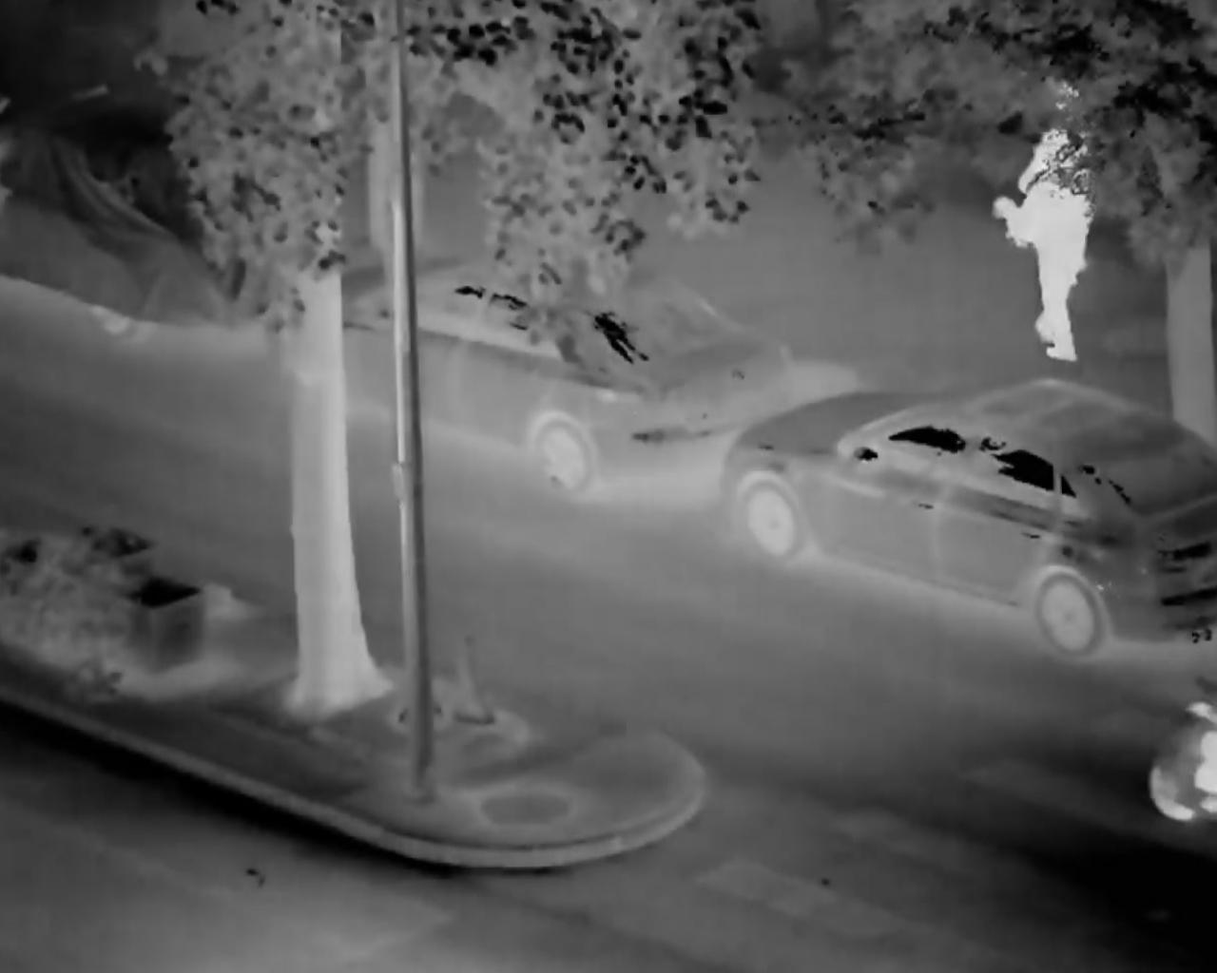person: (989, 118, 1107, 371)
